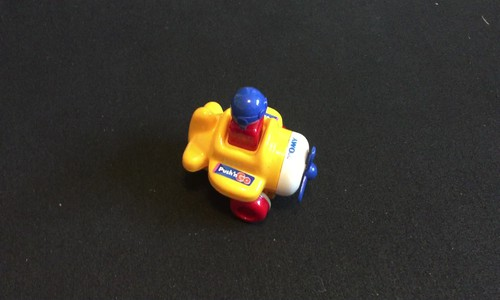toy: (171, 84, 321, 225)
